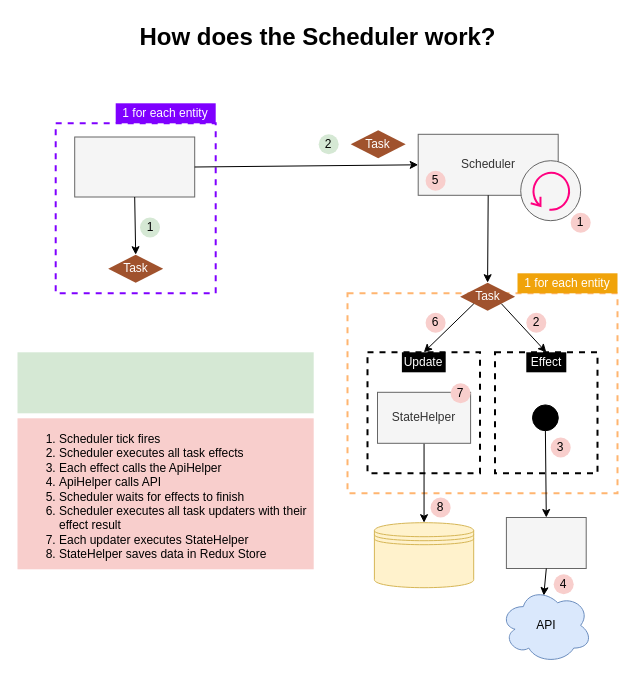
The diagram is 635 pixels wide and 681 high, and some of its shapes have lost their labels. Here are the shapes that lost their labels. From the top down, the centre of each, then its label:
At point 134,166: "QueryManager".
At point 550,190: "tick".
At point 165,382: "QueryManager creates a task QueryManager registers task on Scheduler".
At point 423,555: "Redux Store".
At point 545,542: "ApiHelper".
